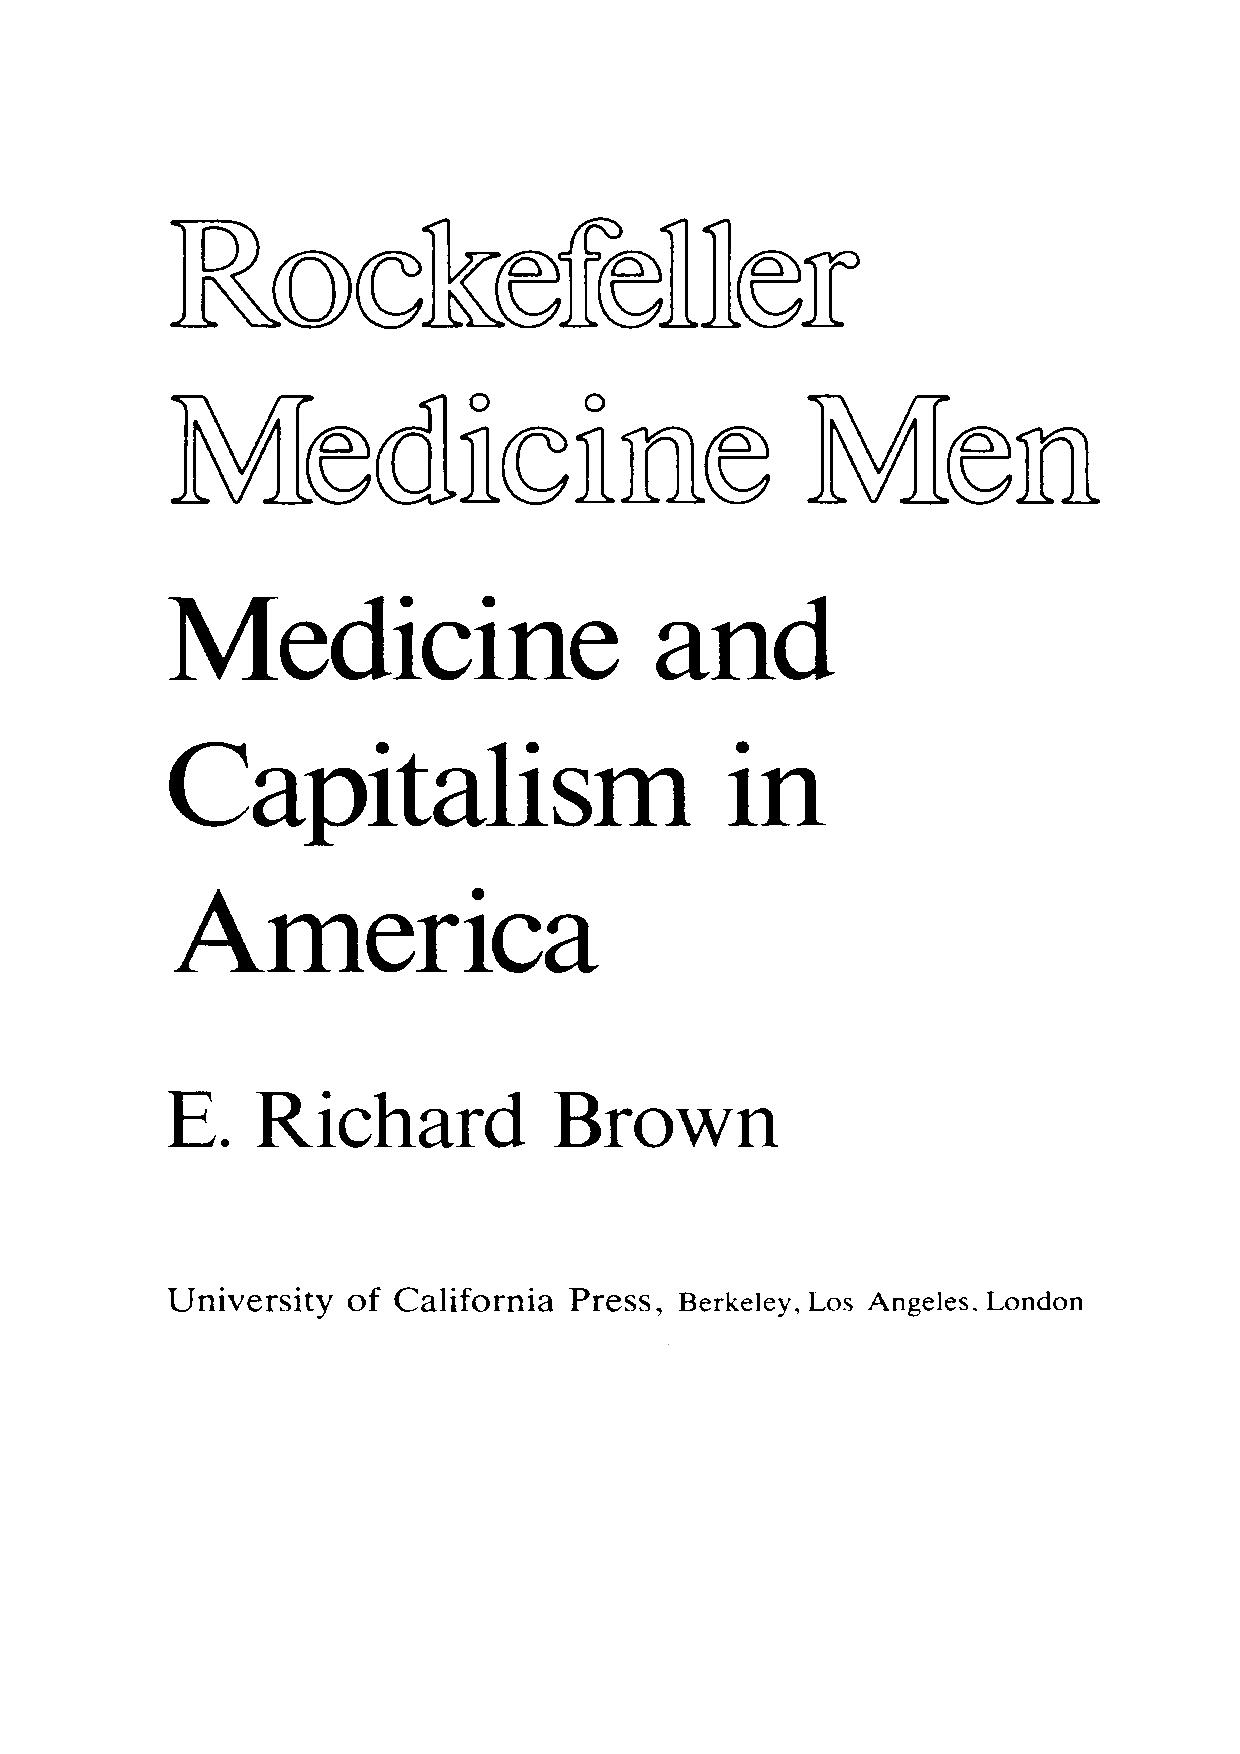author: (162, 1086, 778, 1153)
title: (165, 590, 835, 976)
